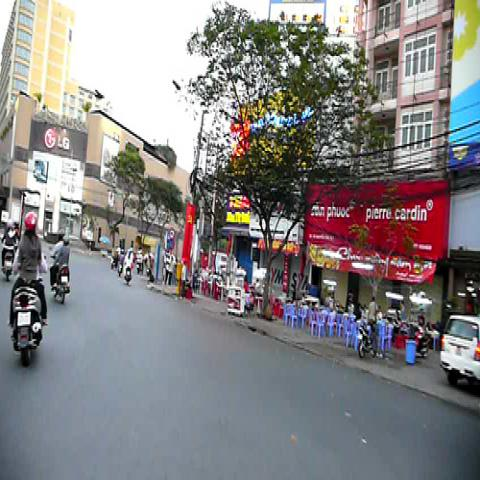car: (441, 314, 479, 388)
motorcycle: (11, 283, 44, 365), (54, 265, 71, 303), (3, 244, 13, 280), (126, 266, 130, 284)
